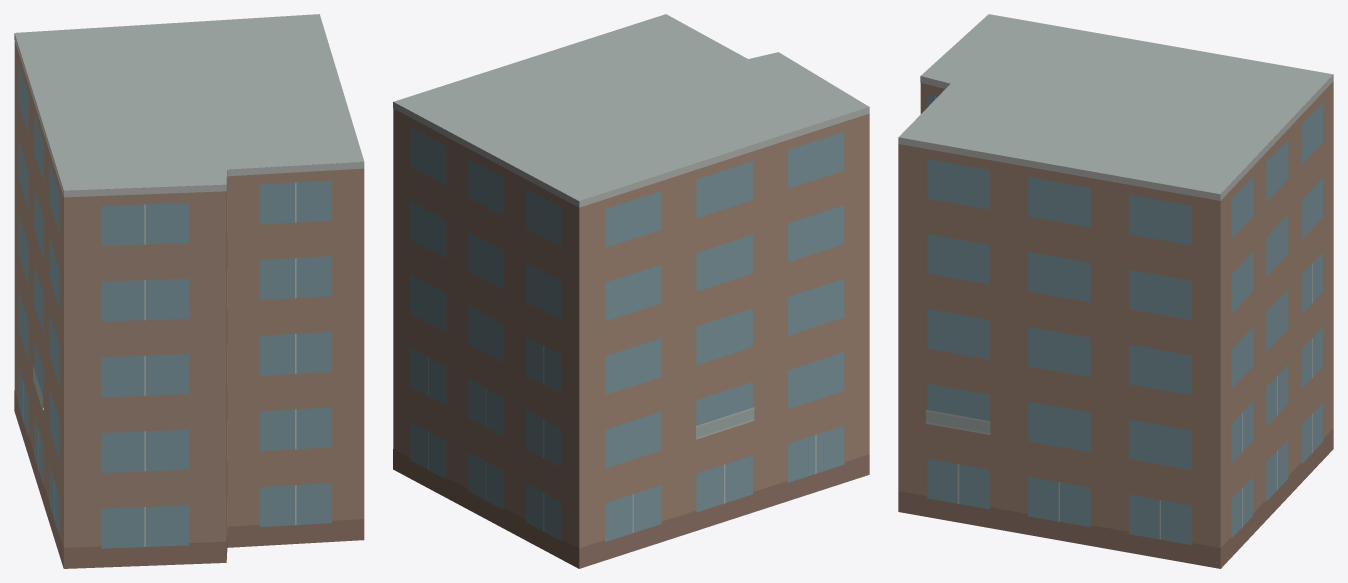
File: survey-upis-32751677.glb
3 renders of one model, left to right at view 1: azimuth 30°, elevation 25°; view 2: azimuth 150°, elevation 25°; view 3: azimuth 270°, elevation 25°, orthographic. The views are drawn at different scales.
Parts seen in each view (by area): view 1: survey-upis-32751677.tmp; view 2: survey-upis-32751677.tmp; view 3: survey-upis-32751677.tmp.
Part boxes in pixels (bbox=[...]): survey-upis-32751677.tmp: bbox=[14, 14, 364, 568]; survey-upis-32751677.tmp: bbox=[393, 14, 869, 568]; survey-upis-32751677.tmp: bbox=[898, 14, 1333, 568].
Size of the model in its own units: 14.2 by 13.75 by 14.49.
